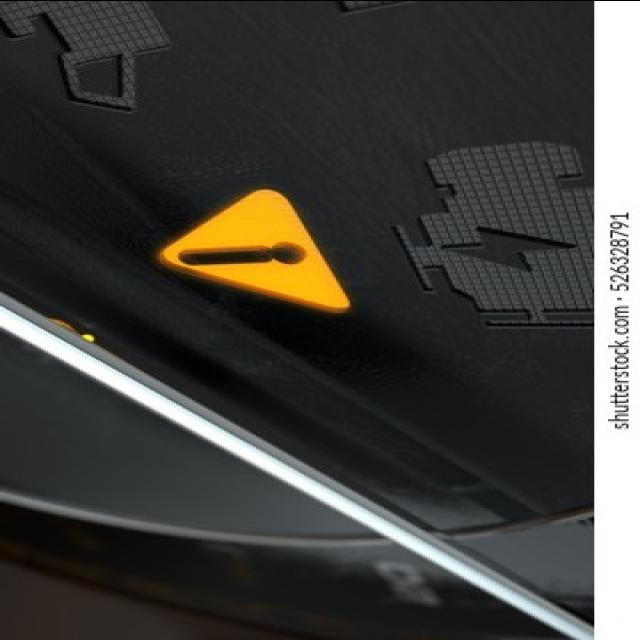Master warning light: (146, 180, 361, 320)
